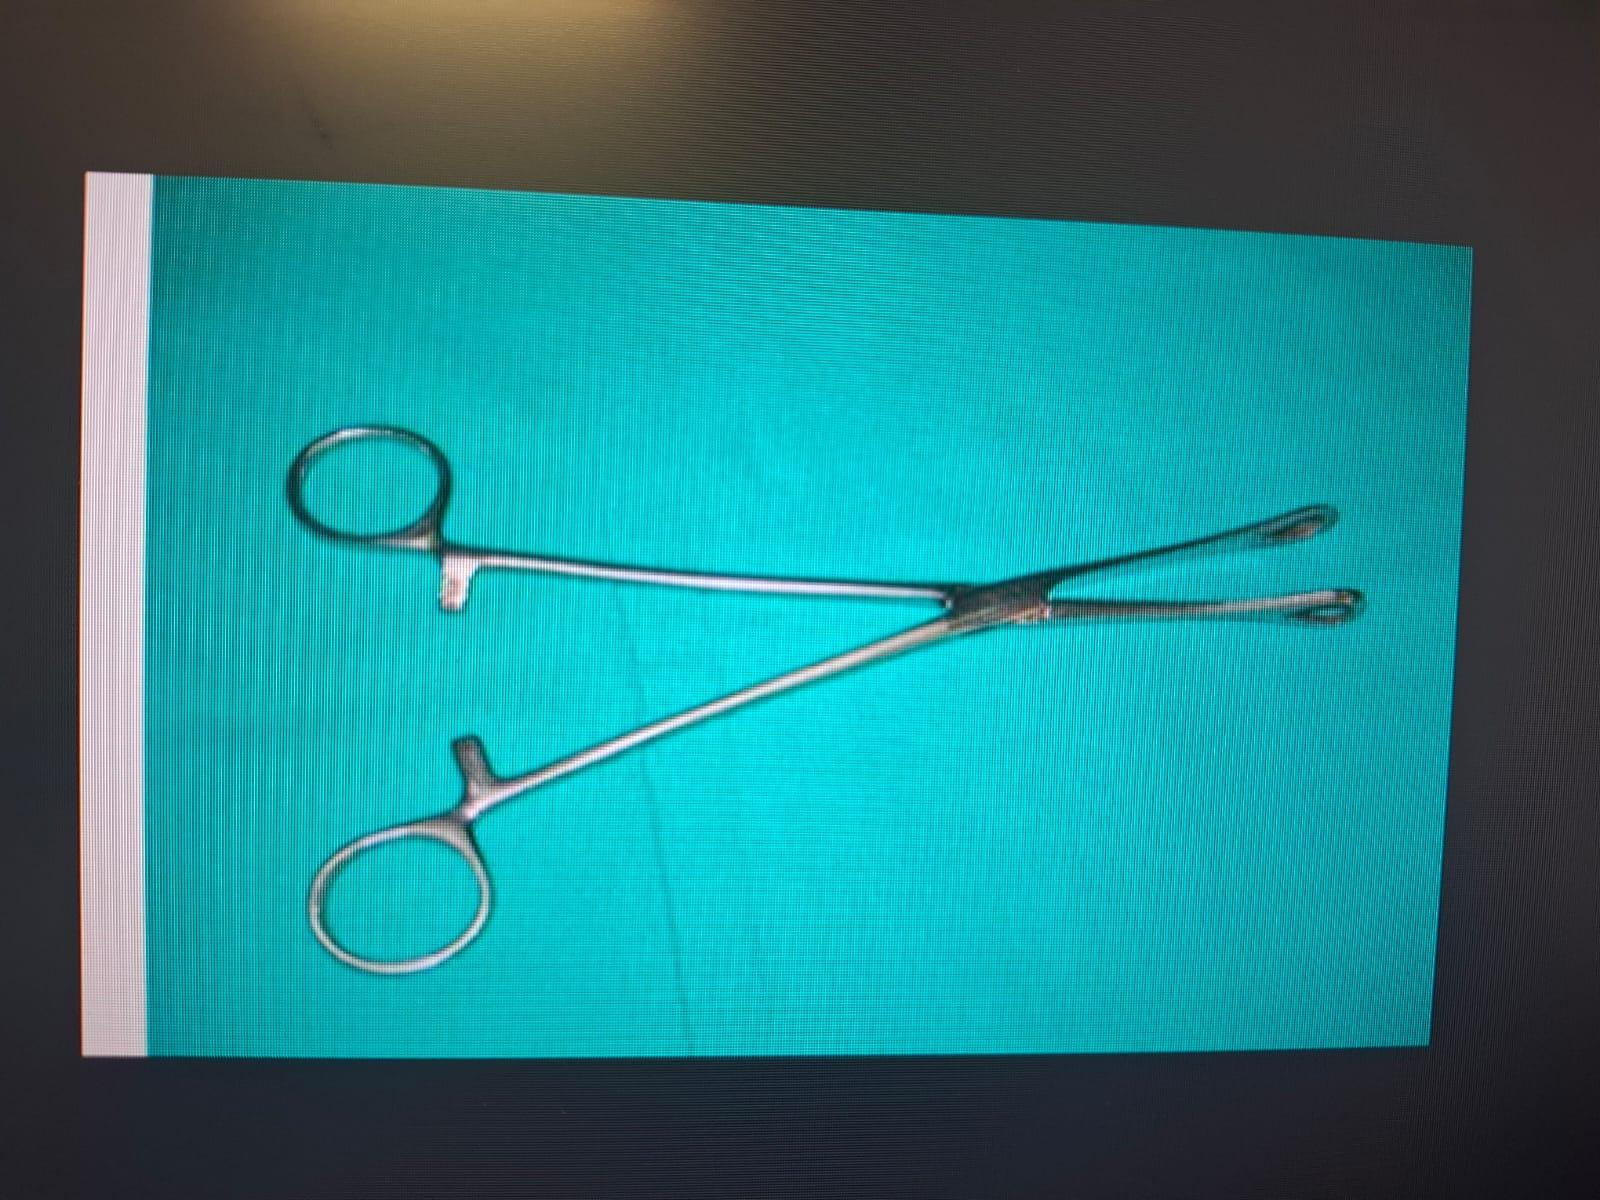Sponge Holding Forceps: (260, 404, 1368, 992)
